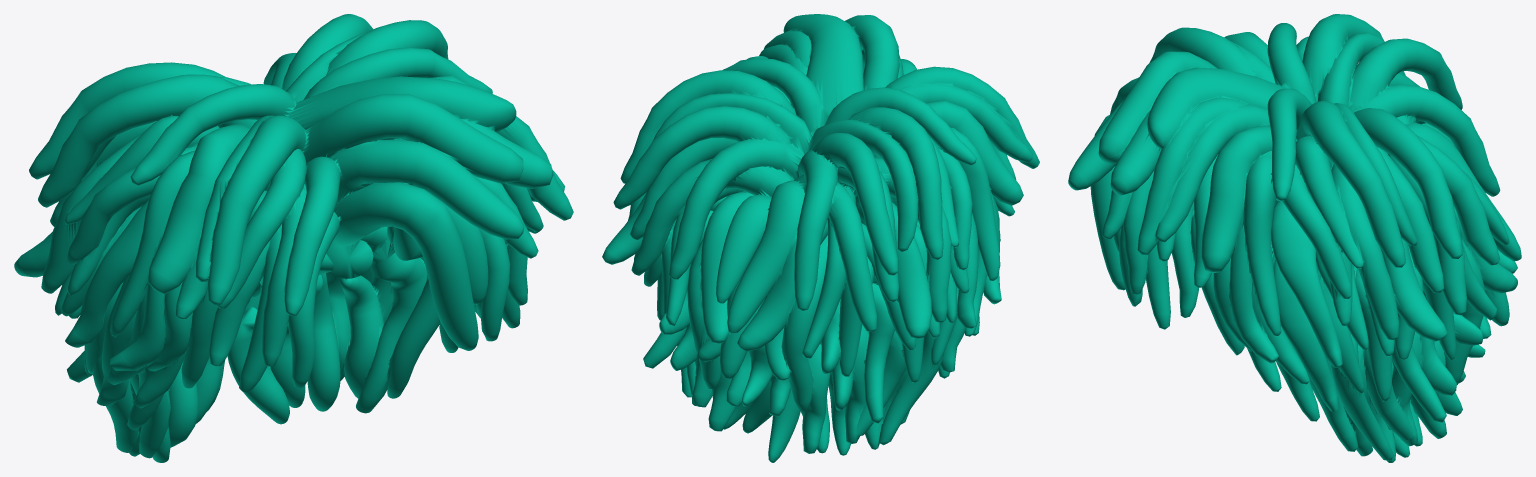
Rendered from Hair_Base_Shortdreads_012.fbx.
The picture shows the model from 3 angles, left to right: view 1: azimuth 30°, elevation 25°; view 2: azimuth 150°, elevation 25°; view 3: azimuth 270°, elevation 25°; orthographic projection. The views are drawn at different scales.
Visible parts, largest first — view 1: Hair_Base_Shortdreads_012; view 2: Hair_Base_Shortdreads_012; view 3: Hair_Base_Shortdreads_012.
Boxes of the visible parts, x1,y1,x2,y2 form: Hair_Base_Shortdreads_012: (14, 14, 573, 462); Hair_Base_Shortdreads_012: (602, 14, 1039, 462); Hair_Base_Shortdreads_012: (1068, 14, 1521, 462).
Bounding box in the file's own units: 216 × 210 × 230.
